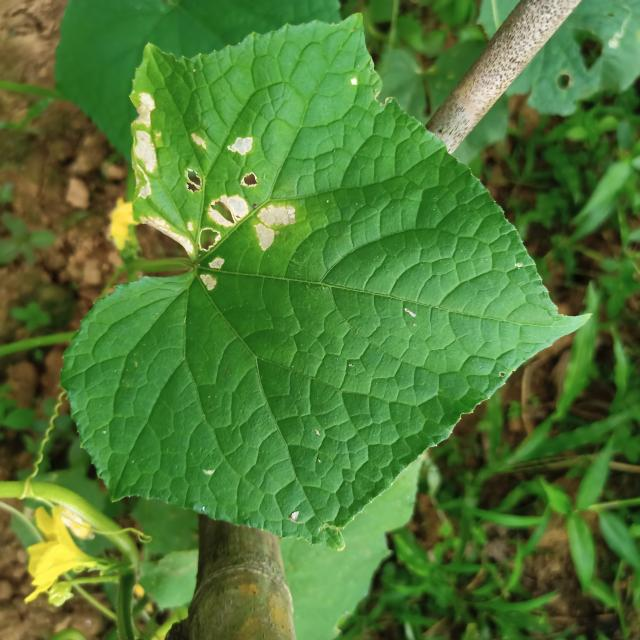disease_cucumber: (132, 92, 296, 292)
